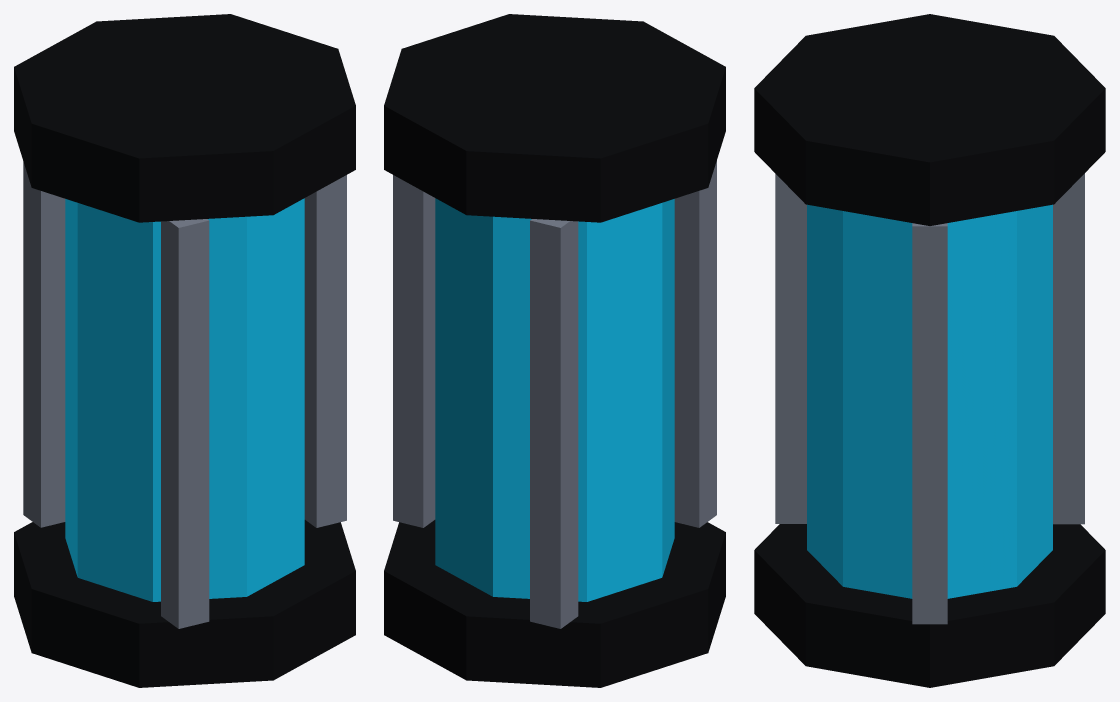
File: energy_cell.obj
The picture shows the model from 3 angles, left to right: view 1: azimuth 30°, elevation 25°; view 2: azimuth 150°, elevation 25°; view 3: azimuth 270°, elevation 25°; orthographic projection.
Parts seen in each view (by area): view 1: energy_cell; view 2: energy_cell; view 3: energy_cell.
Part boxes in pixels (x1,y1,x2,y2): energy_cell: [14, 14, 355, 687]; energy_cell: [384, 14, 725, 687]; energy_cell: [754, 14, 1105, 687].
Size of the model in its own units: 0.2 by 0.33 by 0.2.
